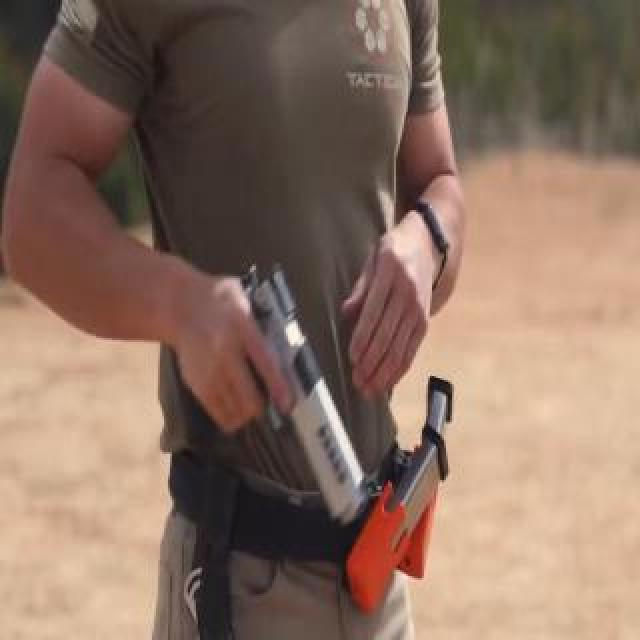Guns: (177, 250, 390, 538)
